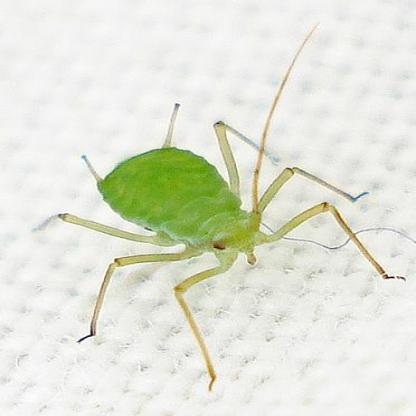aphid: (50, 26, 400, 385)
